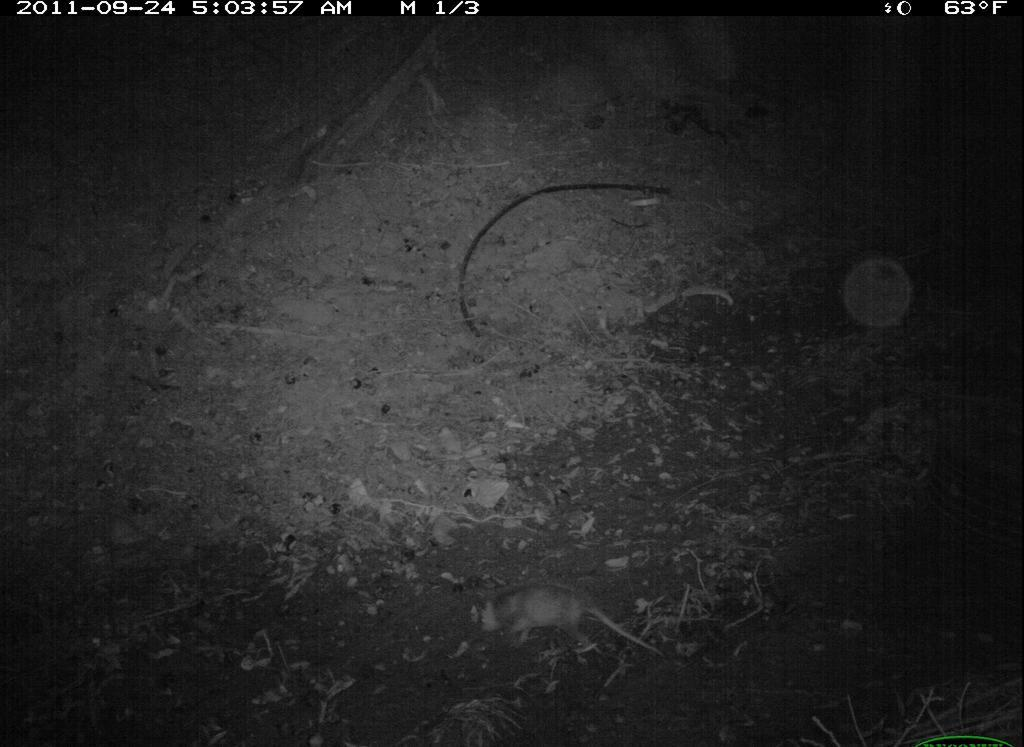opossum: (459, 577, 670, 671)
